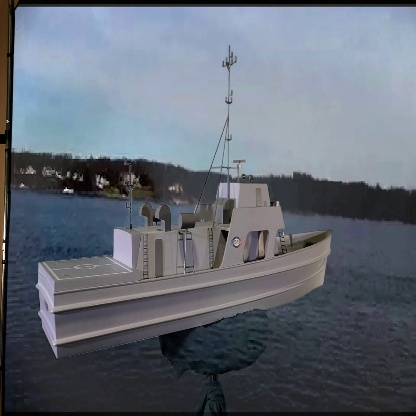YP689: (36, 51, 331, 361)
